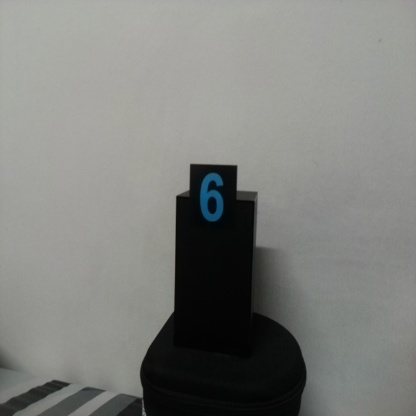id_6: (191, 166, 237, 237)
